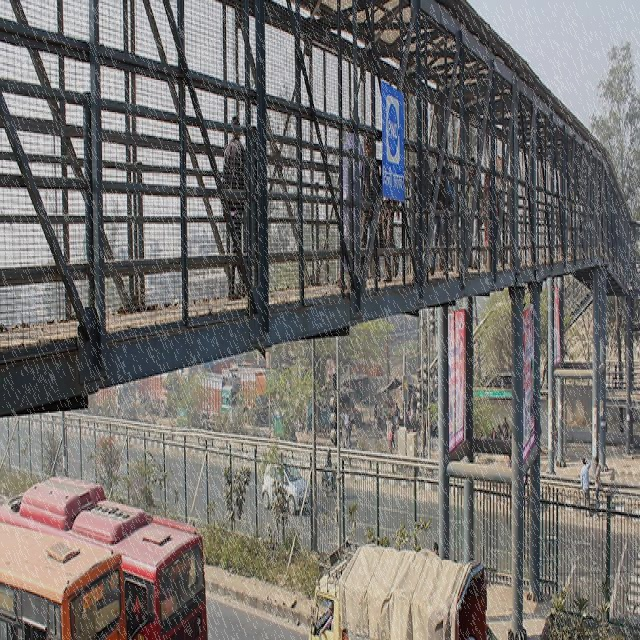pessoa: (220, 111, 247, 302), (337, 110, 364, 288), (356, 130, 382, 284), (410, 139, 431, 277), (428, 142, 449, 278), (462, 155, 484, 269), (446, 314, 464, 428), (522, 310, 535, 460), (380, 196, 400, 284), (391, 394, 422, 449), (489, 422, 512, 460), (446, 165, 454, 272), (482, 171, 492, 250), (579, 454, 591, 517), (316, 595, 334, 637), (594, 454, 601, 509), (552, 422, 558, 464), (387, 422, 393, 458), (347, 414, 353, 444), (326, 446, 333, 469), (430, 534, 438, 554), (373, 400, 378, 430), (343, 408, 349, 430), (539, 422, 542, 454)
